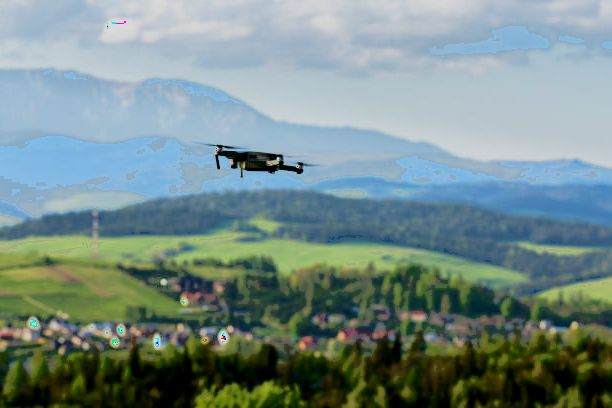Drone: (197, 135, 322, 183)
